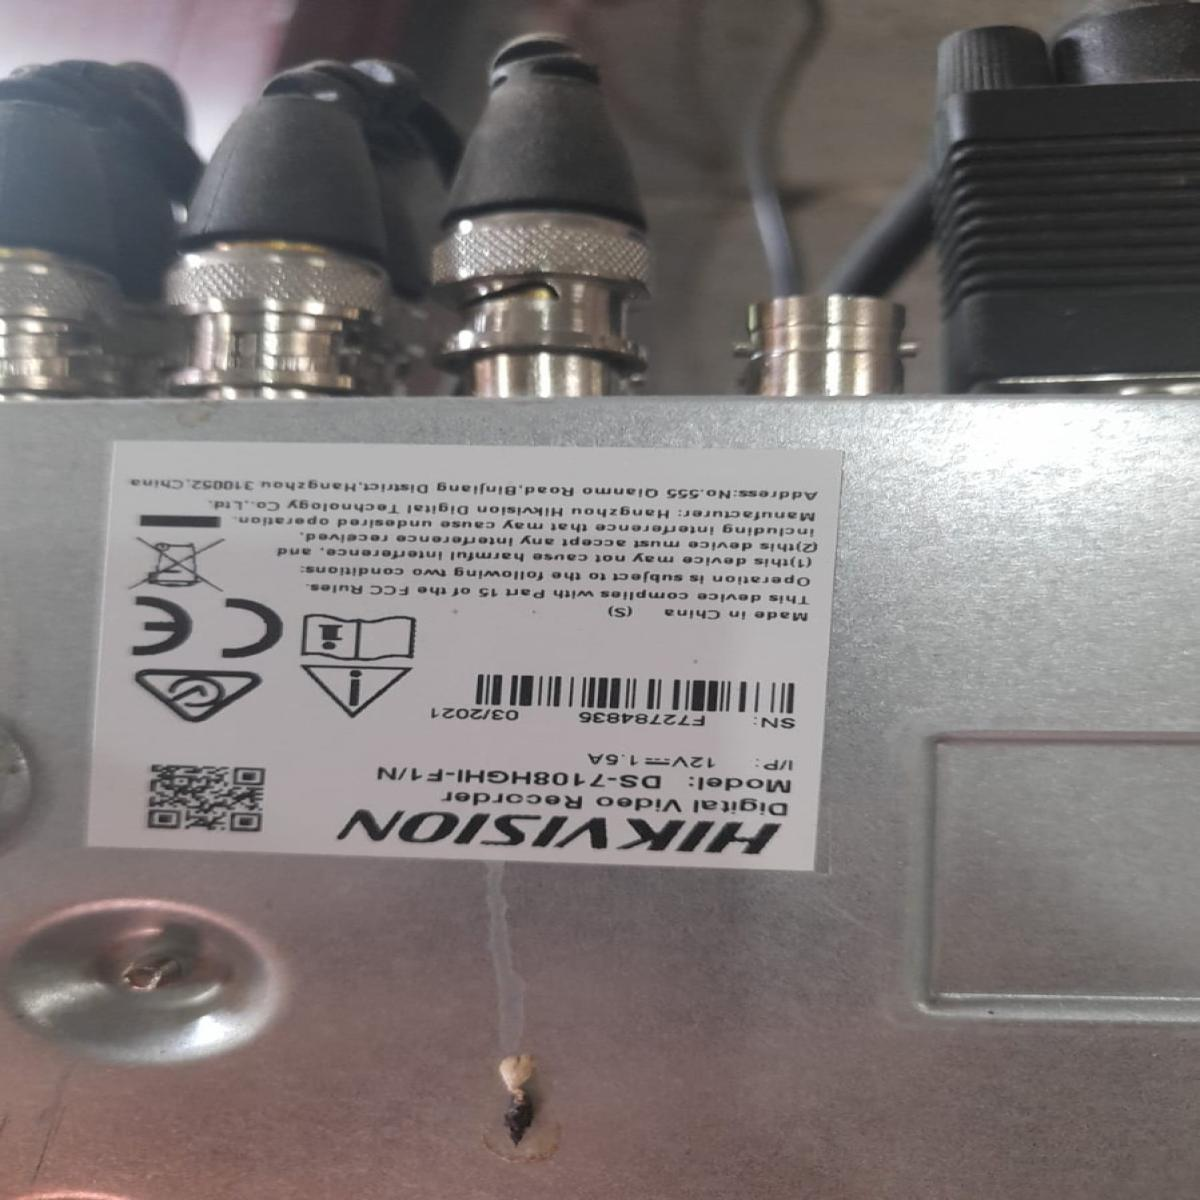Barcode: (471, 668, 802, 716)
Label: (85, 440, 847, 871)
